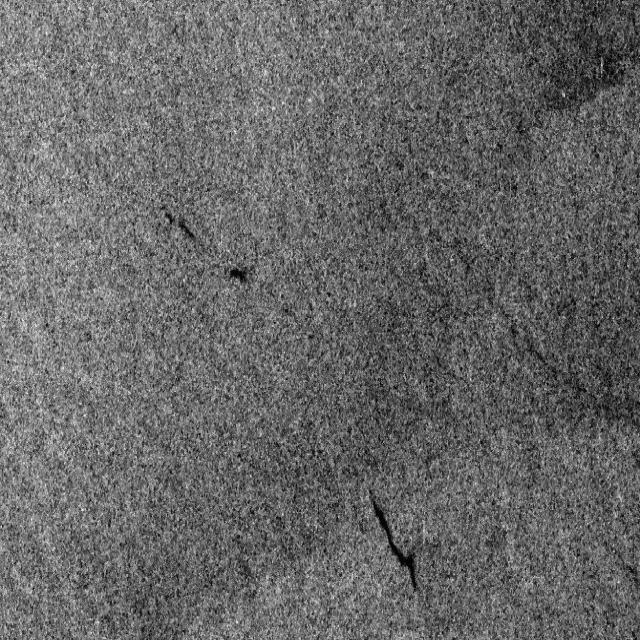oil-spill: (360, 466, 428, 600), (157, 195, 208, 253), (224, 246, 259, 298)
